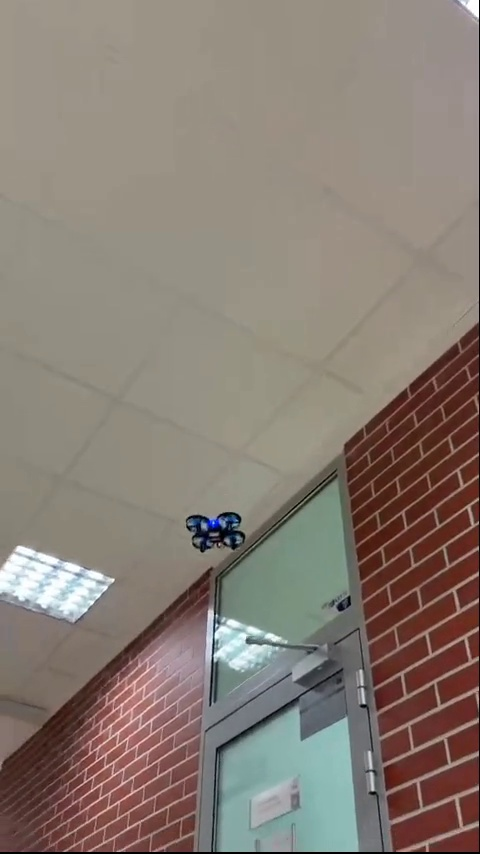drone: (188, 511, 245, 554)
